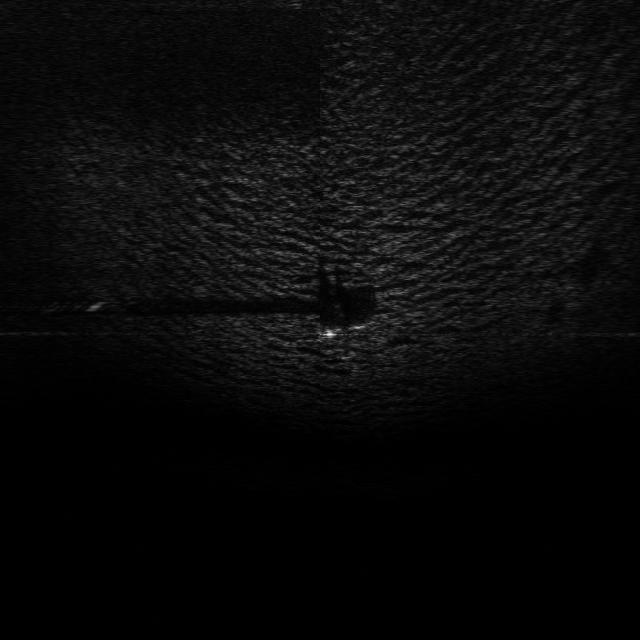plane: (313, 314, 387, 344)
